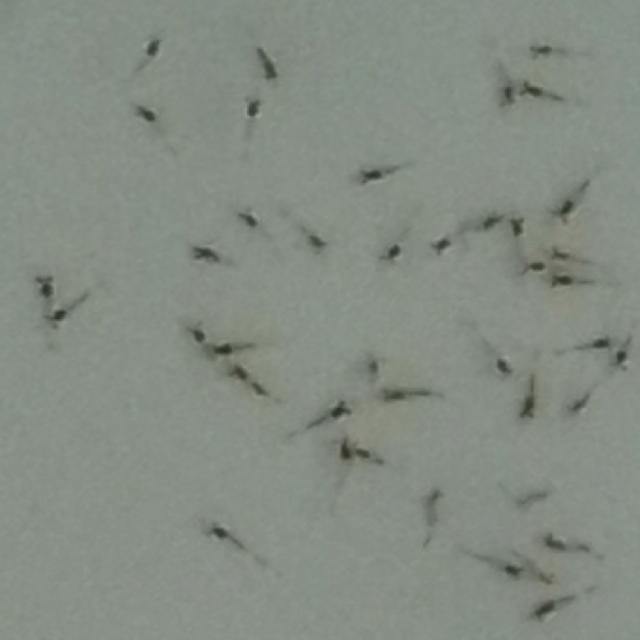shrimp-seed: (528, 592, 574, 624), (44, 301, 90, 333), (252, 48, 284, 84), (550, 193, 582, 227), (202, 522, 242, 548), (416, 488, 445, 522), (518, 488, 552, 516), (320, 398, 354, 426), (520, 82, 562, 104), (32, 272, 59, 306), (360, 164, 398, 188), (206, 340, 242, 365), (538, 528, 570, 556), (382, 387, 429, 405), (183, 318, 211, 348), (516, 390, 540, 423), (502, 559, 530, 587), (358, 356, 386, 384), (567, 390, 593, 420), (516, 256, 548, 280), (234, 206, 260, 234), (302, 230, 328, 256), (239, 96, 265, 122), (479, 210, 504, 237), (606, 350, 634, 374), (190, 242, 220, 264), (527, 42, 557, 64), (429, 232, 454, 258), (546, 244, 572, 268), (378, 243, 402, 269), (132, 104, 158, 128), (546, 271, 576, 291), (488, 356, 514, 379), (226, 362, 250, 386), (140, 38, 164, 62), (532, 570, 558, 592), (508, 213, 528, 240), (334, 439, 354, 465), (584, 334, 612, 352), (498, 82, 516, 110), (353, 444, 373, 462)
